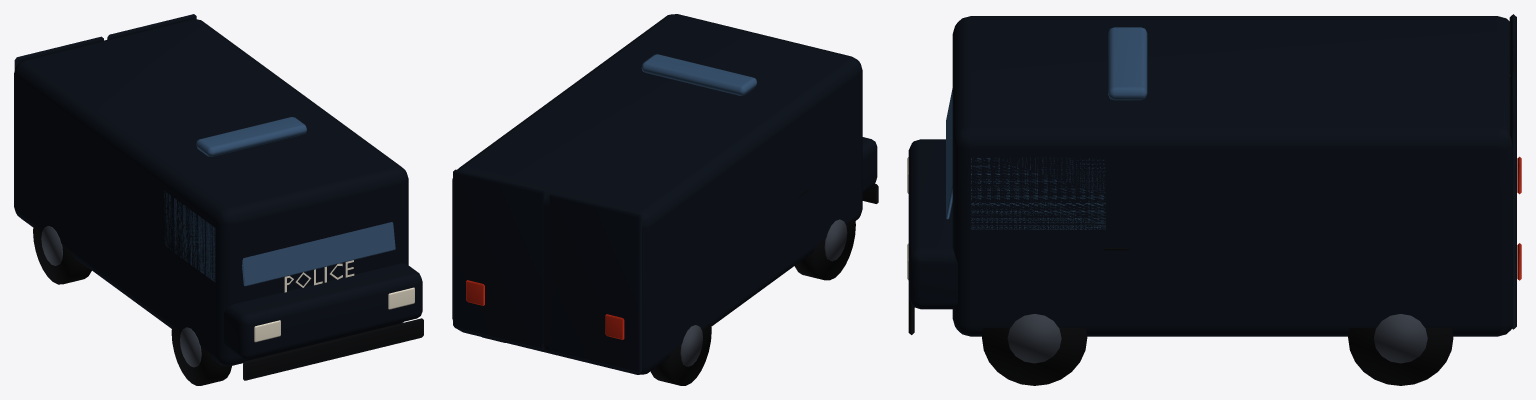
Rendered from police-van.glb.
The picture shows the model from 3 angles, left to right: view 1: azimuth 30°, elevation 25°; view 2: azimuth 150°, elevation 25°; view 3: azimuth 270°, elevation 25°; orthographic projection. The views are drawn at different scales.
Parts seen in each view (by area): view 1: police-van; view 2: police-van; view 3: police-van.
Boxes of the visible parts, left/top/right/bottom form: police-van: left=14, top=14, right=423, bottom=385; police-van: left=452, top=14, right=878, bottom=385; police-van: left=907, top=14, right=1521, bottom=385.
Size of the model in its own units: 2.4 by 2.4 by 5.
1 material, 1 textured.
